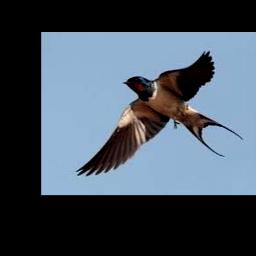Swallow: (75, 50, 242, 176)
